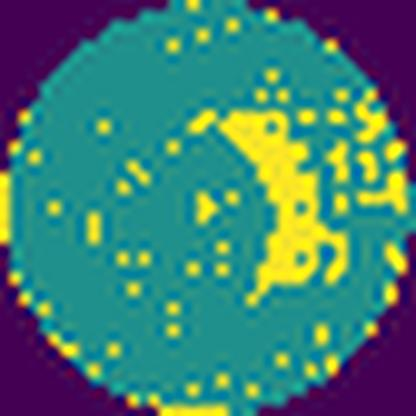Loc: (222, 112, 349, 304)
